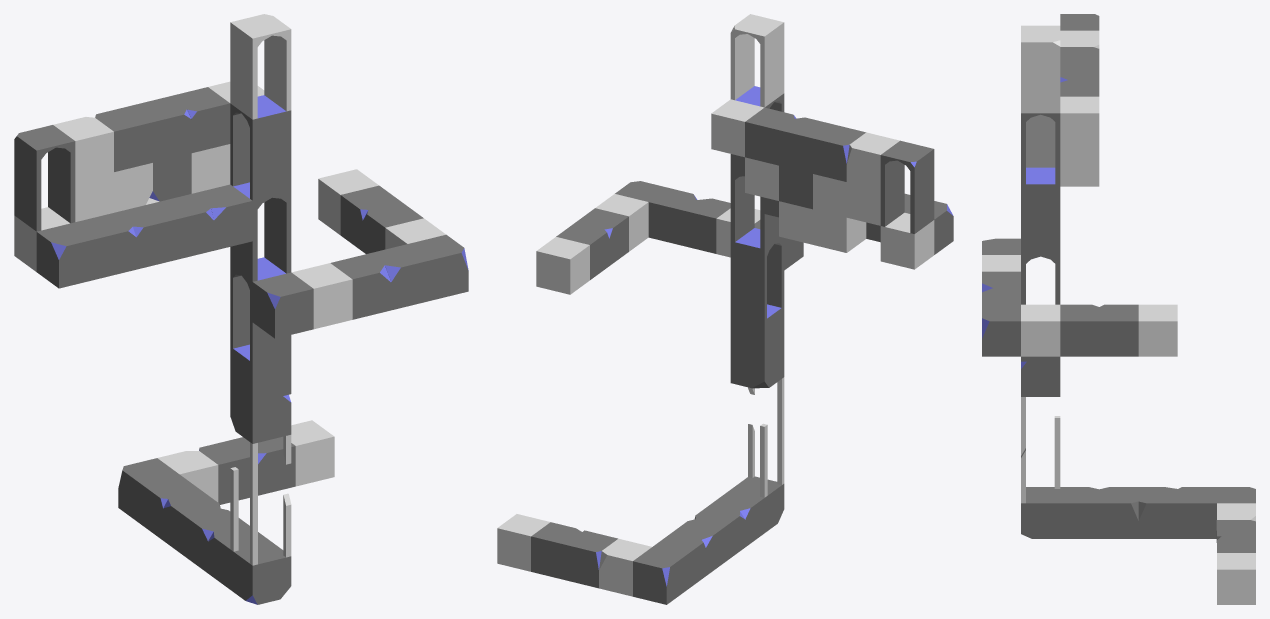
Rendered from Stage2.fbx.
The picture shows the model from 3 angles, left to right: view 1: azimuth 30°, elevation 25°; view 2: azimuth 150°, elevation 25°; view 3: azimuth 270°, elevation 25°; orthographic projection. The views are drawn at different scales.
Visible parts, largest first — view 1: Box030, Box032, Box037, Box019, Box036, Box018, Box017, Box001, Box015, Box034, Box044, Box005 (+30 smaller); view 2: Box017, Box037, Box032, Box014, Box029, Box038, Box015, Box018, Box005, Box012, Box046, Box023 (+28 smaller); view 3: Box032, Box018, Box025, Box029, Box047, Box027, Box026, Box010, Box009, Box007, Box008, Box024 (+25 smaller).
Part boxes in pixels (x1=…): Box030: x1=230, y1=95, x2=291, y2=200; Box032: x1=230, y1=14, x2=291, y2=119; Box037: x1=14, y1=125, x2=75, y2=231; Box019: x1=252, y1=272, x2=313, y2=338; Box036: x1=36, y1=222, x2=97, y2=288; Box018: x1=230, y1=182, x2=291, y2=281; Box017: x1=230, y1=257, x2=291, y2=362; Box001: x1=230, y1=540, x2=291, y2=604; Box015: x1=230, y1=344, x2=291, y2=403; Box034: x1=114, y1=203, x2=175, y2=269; Box044: x1=169, y1=87, x2=230, y2=152; Box005: x1=230, y1=387, x2=291, y2=443; Box017: x1=730, y1=228, x2=784, y2=320; Box037: x1=880, y1=140, x2=934, y2=233; Box032: x1=730, y1=14, x2=784, y2=107; Box014: x1=633, y1=547, x2=686, y2=604; Box029: x1=536, y1=237, x2=589, y2=294; Box038: x1=880, y1=212, x2=934, y2=269; Box015: x1=730, y1=304, x2=784, y2=355; Box018: x1=730, y1=170, x2=780, y2=249; Box005: x1=730, y1=342, x2=784, y2=388; Box012: x1=565, y1=530, x2=617, y2=588; Box046: x1=813, y1=124, x2=865, y2=181; Box023: x1=648, y1=187, x2=697, y2=245; Box032: x1=1021, y1=25, x2=1060, y2=113; Box018: x1=1021, y1=167, x2=1060, y2=254; Box025: x1=1021, y1=304, x2=1060, y2=356; Box029: x1=1138, y1=304, x2=1177, y2=356; Box047: x1=1060, y1=96, x2=1099, y2=148; Box027: x1=1099, y1=304, x2=1138, y2=356; Box026: x1=1060, y1=304, x2=1099, y2=356; Box010: x1=1177, y1=487, x2=1216, y2=538; Box009: x1=1138, y1=487, x2=1177, y2=538; Box007: x1=1060, y1=487, x2=1099, y2=538; Box008: x1=1099, y1=487, x2=1138, y2=538; Box024: x1=982, y1=304, x2=1020, y2=356.
Bounding box in the file's own units: 200 × 280 × 140.
